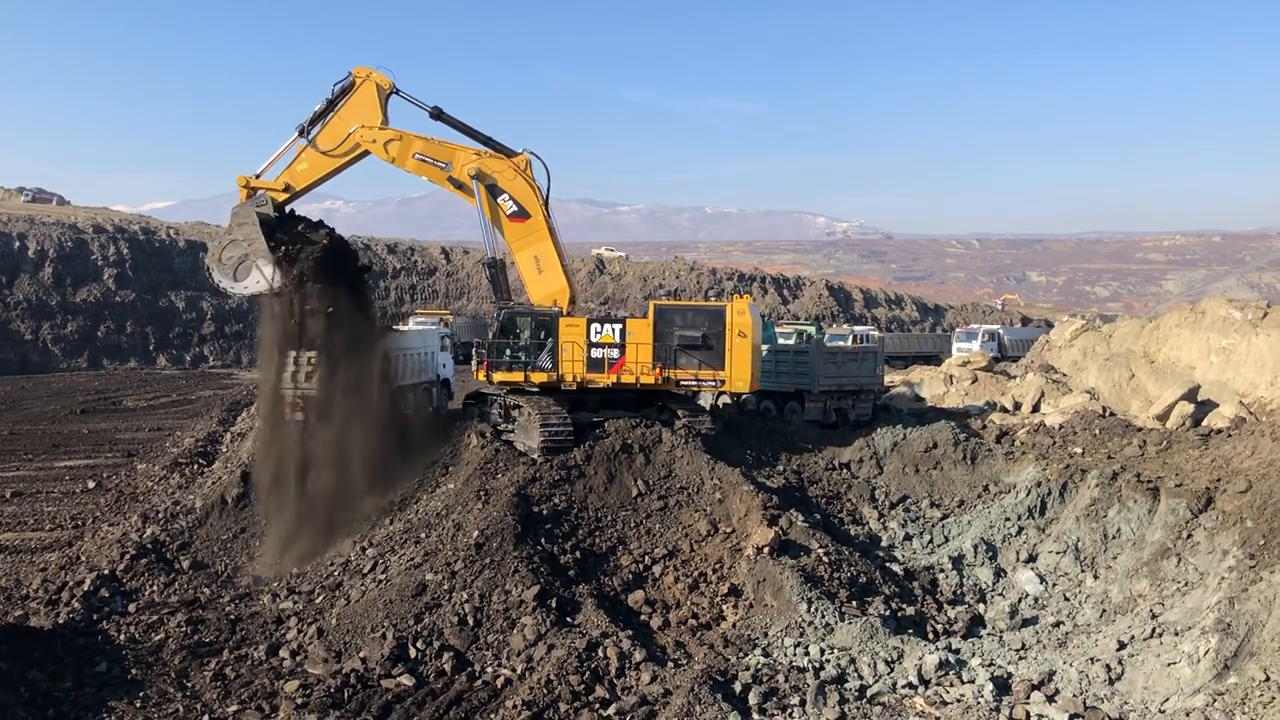full: (203, 196, 366, 309)
